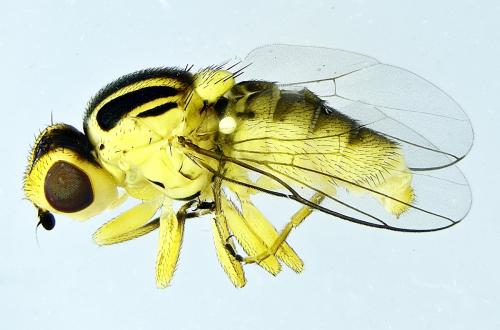Chloropidae: (20, 44, 476, 292)
